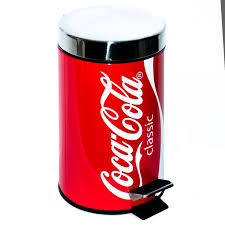Coca-Cola: (98, 72, 146, 183)
bottle: (60, 31, 170, 197)
